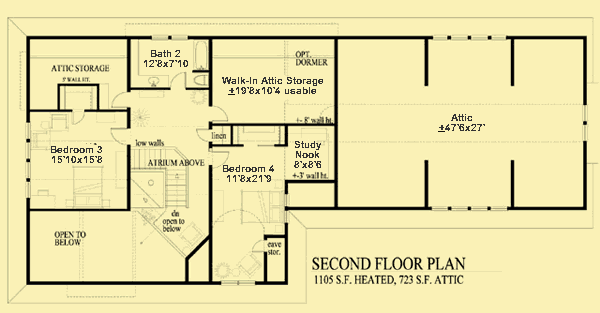bed: (65, 164, 111, 212), (239, 187, 291, 227)
door: (109, 126, 134, 146), (168, 69, 189, 91), (208, 149, 231, 169), (109, 89, 132, 109), (207, 103, 230, 122), (194, 126, 213, 144), (70, 107, 86, 127)
large sink: (192, 72, 212, 89)
small sink: (143, 76, 162, 89)
small sofa: (179, 221, 207, 249), (237, 253, 262, 276), (30, 130, 54, 152), (47, 112, 71, 134)
stairs: (127, 145, 191, 212)
tub: (191, 38, 211, 70)
windows: (430, 31, 507, 45), (23, 120, 34, 200), (430, 204, 511, 214), (218, 277, 257, 289), (580, 102, 591, 144), (147, 33, 189, 43)
